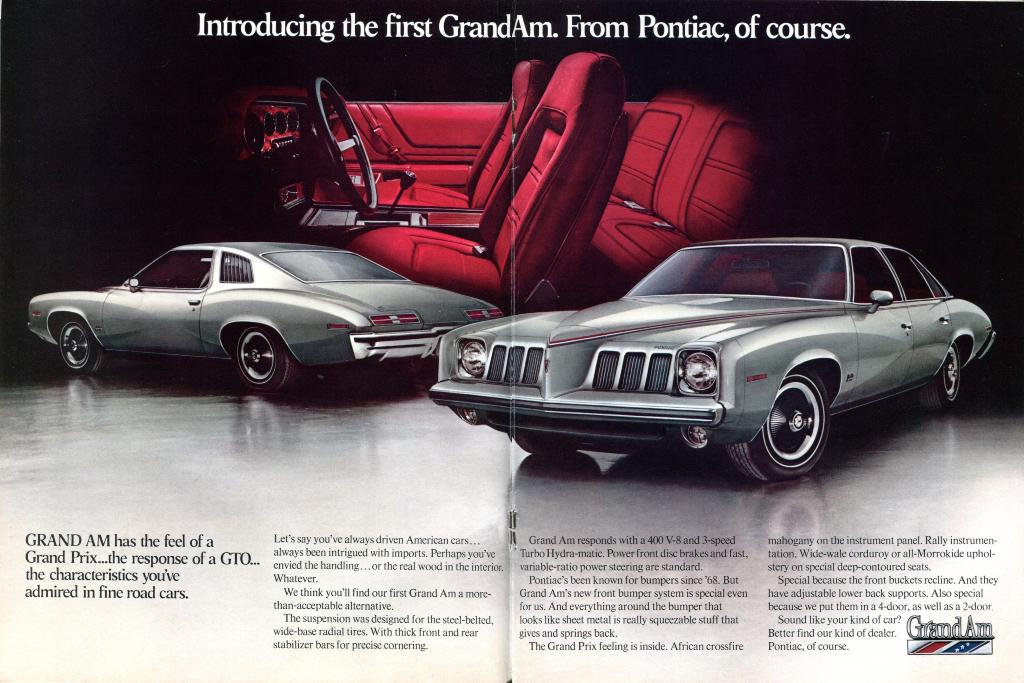Car: (220, 49, 787, 325), (419, 231, 993, 481), (22, 242, 512, 394)
